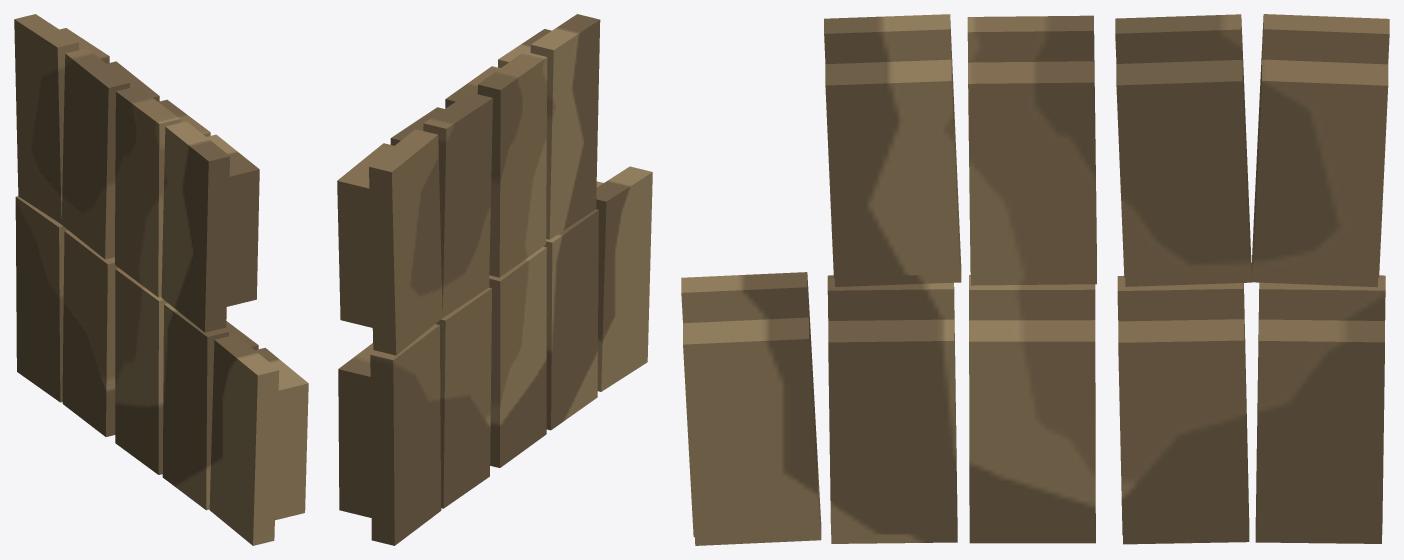
The model's file is SM_Veh_Attach_Tank_Armour_06.fbx.
The picture shows the model from 3 angles, left to right: view 1: azimuth 30°, elevation 25°; view 2: azimuth 150°, elevation 25°; view 3: azimuth 270°, elevation 25°; orthographic projection. The views are drawn at different scales.
Visible parts, largest first — view 1: SM_Veh_Attach_Tank_Armour_06; view 2: SM_Veh_Attach_Tank_Armour_06; view 3: SM_Veh_Attach_Tank_Armour_06.
Part boxes in pixels (x1,y1,x2,y2): SM_Veh_Attach_Tank_Armour_06: [14, 14, 308, 545]; SM_Veh_Attach_Tank_Armour_06: [337, 14, 652, 545]; SM_Veh_Attach_Tank_Armour_06: [681, 14, 1389, 545].
Bounding box in the file's own units: 11.1 × 73.2 × 90.93.
